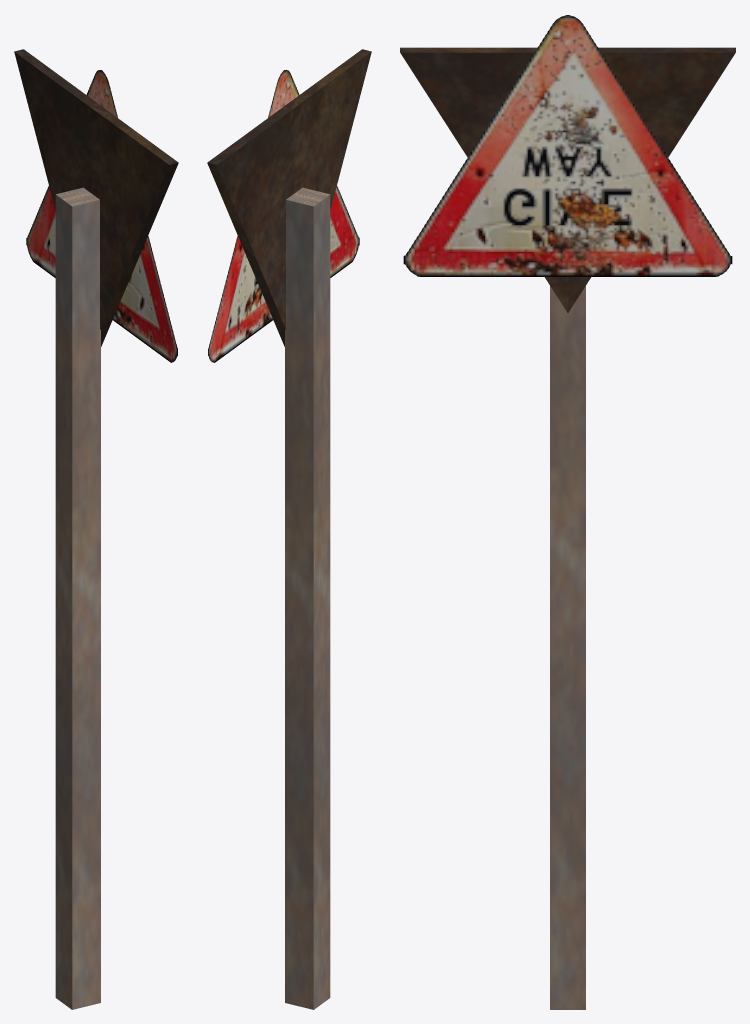
The model's file is signyieldrusty.obj.
The picture shows the model from 3 angles, left to right: view 1: azimuth 30°, elevation 25°; view 2: azimuth 150°, elevation 25°; view 3: azimuth 270°, elevation 25°; orthographic projection. The views are drawn at different scales.
Parts seen in each view (by area): view 1: cube, cylinder, plane; view 2: cube, cylinder, plane; view 3: plane, cube, cylinder.
Boxes of the visible parts, x1,y1,x2,y2 form: cube: [55, 187, 100, 1009]; cylinder: [14, 49, 178, 346]; plane: [26, 70, 177, 362]; cube: [285, 187, 330, 1009]; cylinder: [207, 49, 371, 346]; plane: [208, 70, 359, 362]; plane: [403, 15, 732, 276]; cube: [550, 286, 585, 1009]; cylinder: [400, 47, 735, 312].
Size of the model in its own units: 0.125 by 2.88 by 0.875.
Materials: 3 (3 with a texture image).
